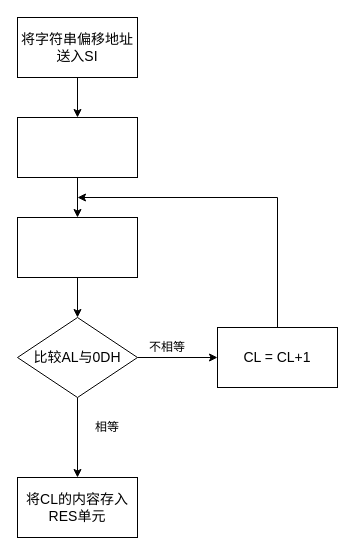
This 355x555 diagram has some shape labels left out. The shapes that lost their labels are listed below. From the top down, each one's centre as x and y in pixels, then its label:
At pixel 77 147: "设置计数器CL为0".
At pixel 77 247: "从DS:[SI]中取出一个字节，送入AL，SI = SI+1".
